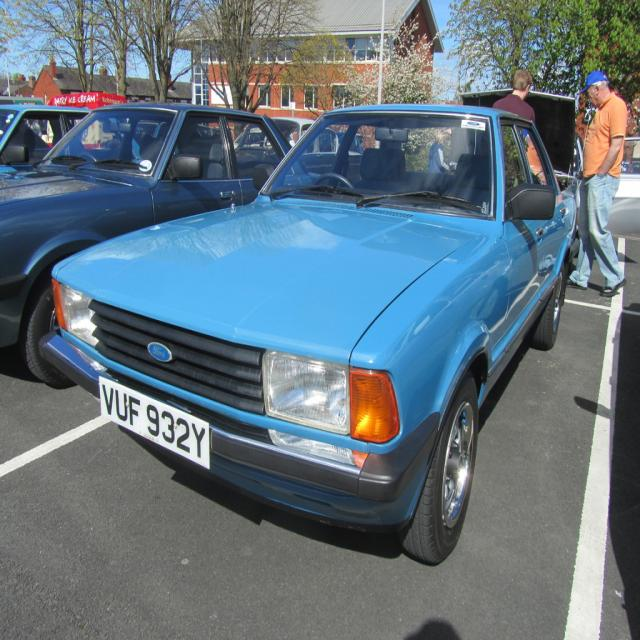car: (32, 105, 575, 567)
